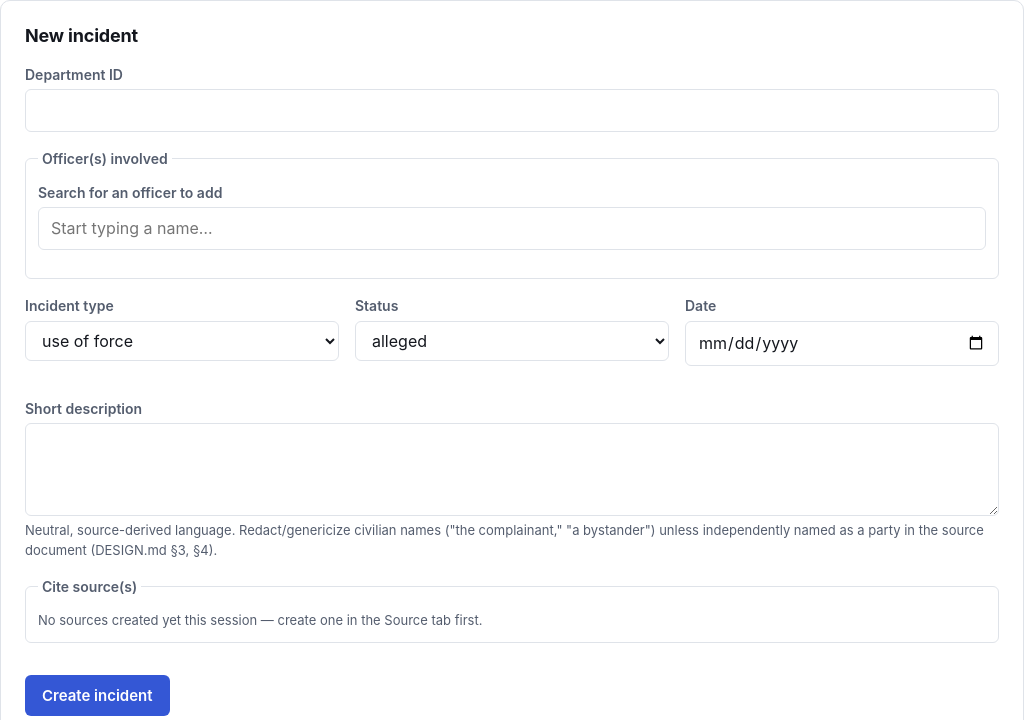
Test case: NewIncidentForm › removes an added officer via its chip's remove button before submitting
Type "Alvar" into the dropdown labelled "Search for an officer to add" at (512, 229), box [38,207,986,250]
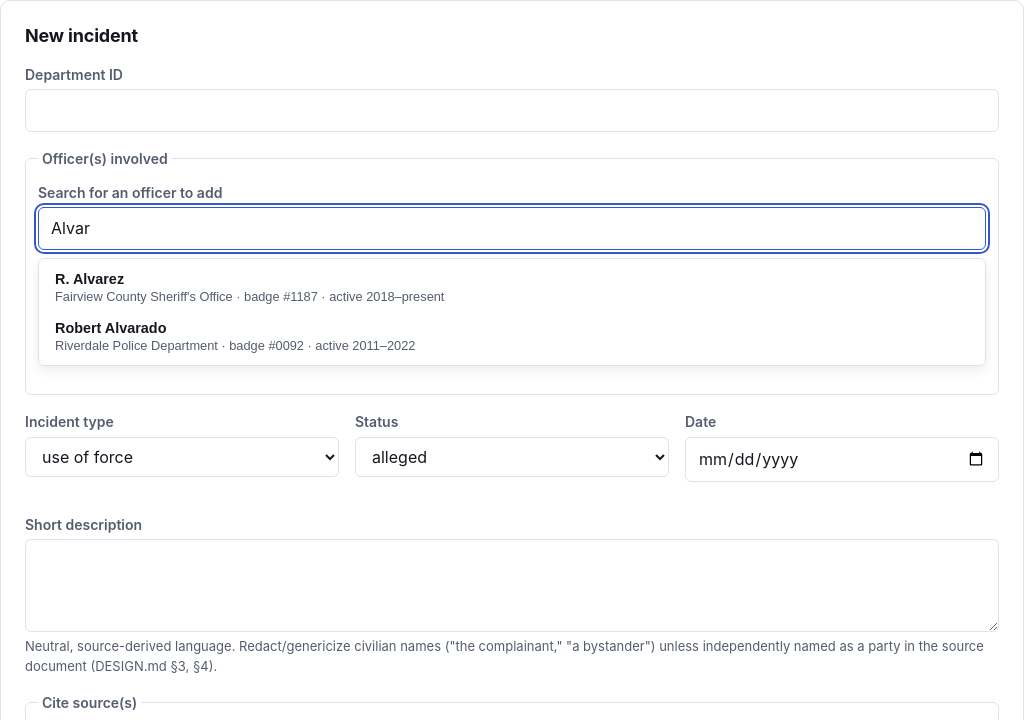
Click the option "R. Alvarez" at (98, 279), box [43,263,981,312]
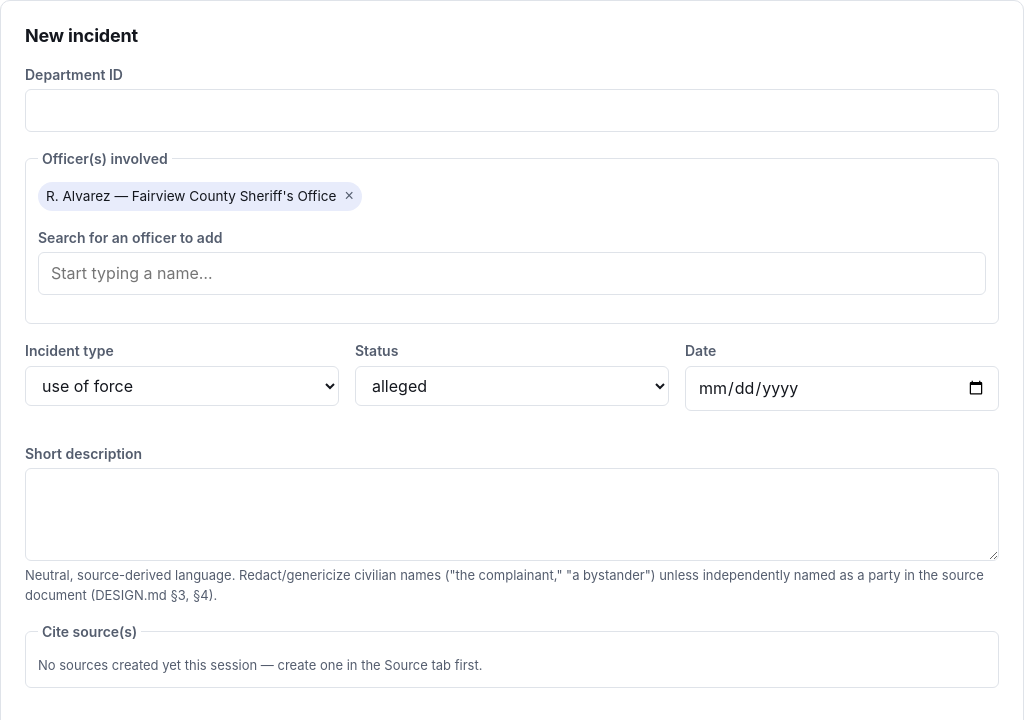
Check: the list item "R. Alvarez — Fairview County Sheriff's Office ×" is shown, box [38,182,362,211]
Click the button named "Remove R. Alvarez" at (349, 196), box [344,188,354,204]
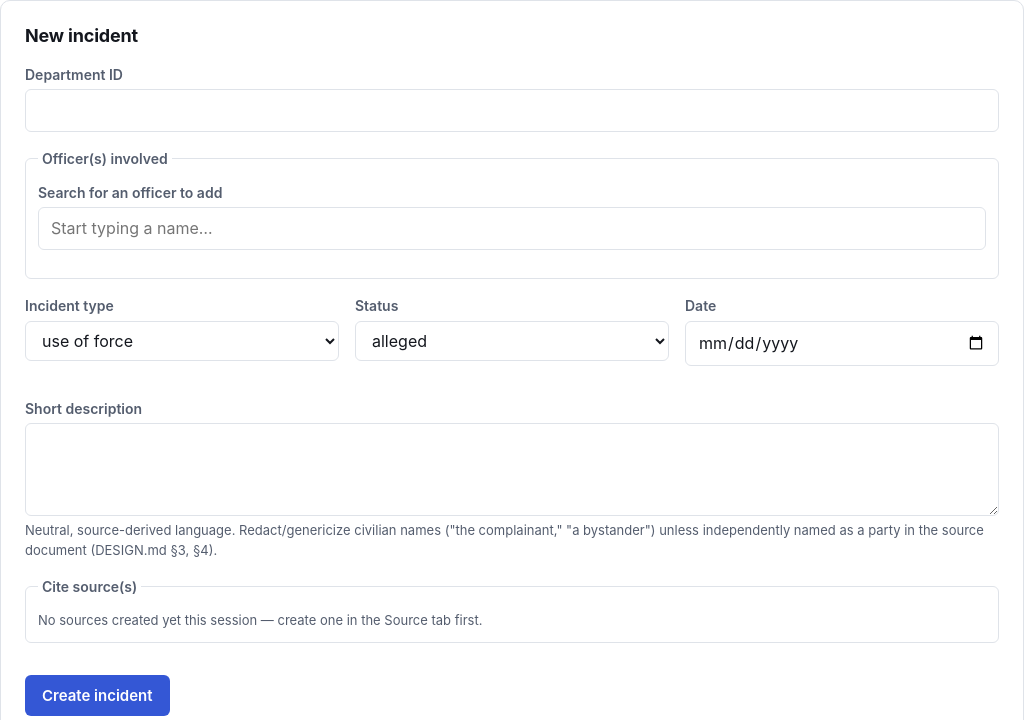
Check: the list item "R. Alvarez" is gone
Type "dept-1" into the field labelled "Department ID" at (512, 111), box [25,89,999,132]
Type "2025-06-01" into the date field labelled "Date" at (842, 343), box [685,321,999,366]
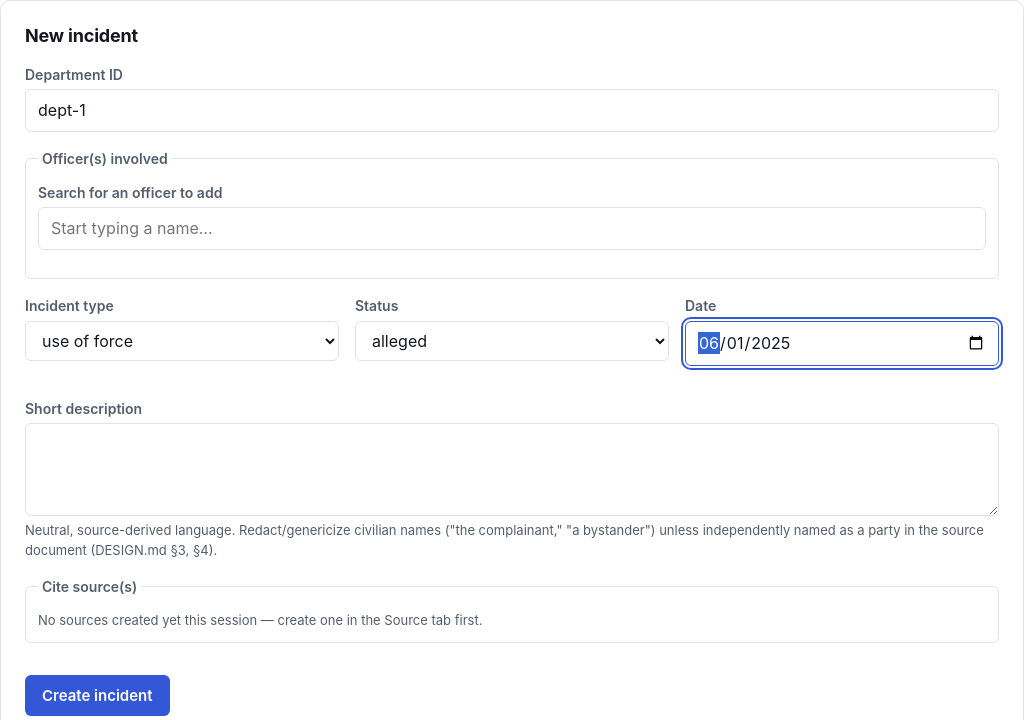
Type "Use of force during a traffic stop." into the text box labelled "Short description" at (512, 470), box [25,423,999,516]
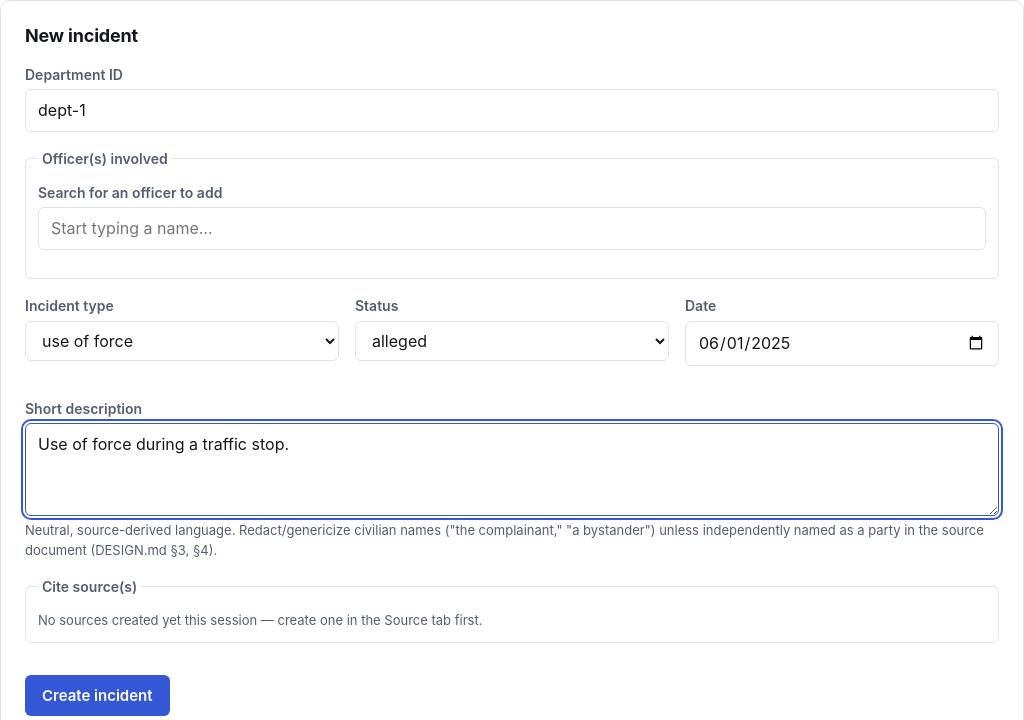
Click the button "Create incident" at (97, 695), box [25,675,170,716]
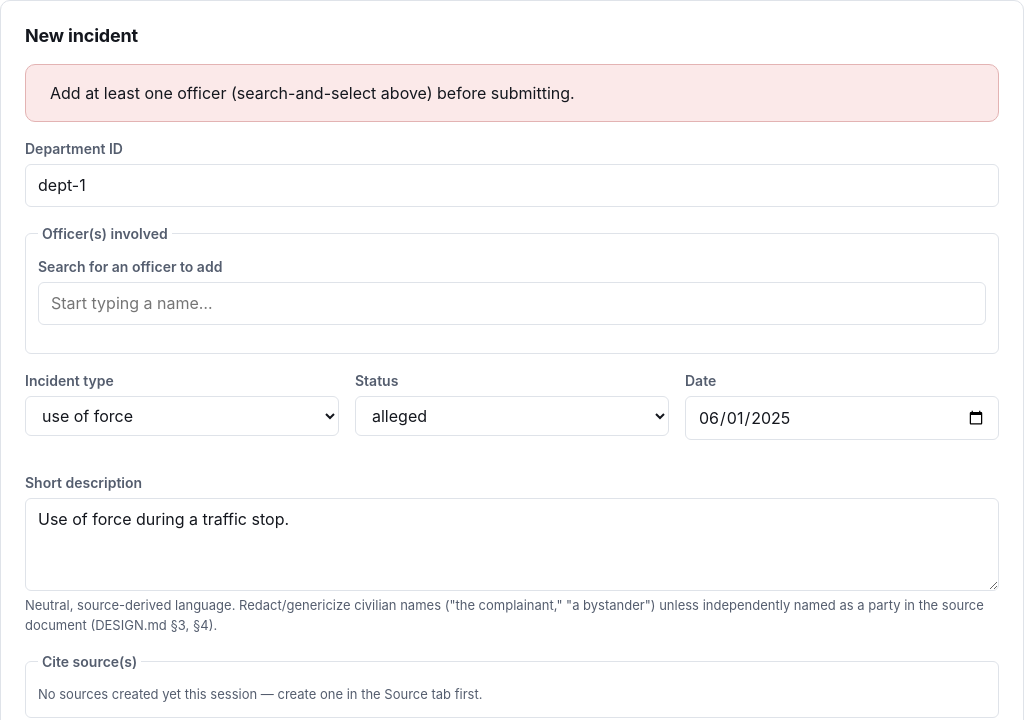
Check: the text "Add at least one officer (search-and-select above) before submitting." is shown, box [25,64,999,122]
